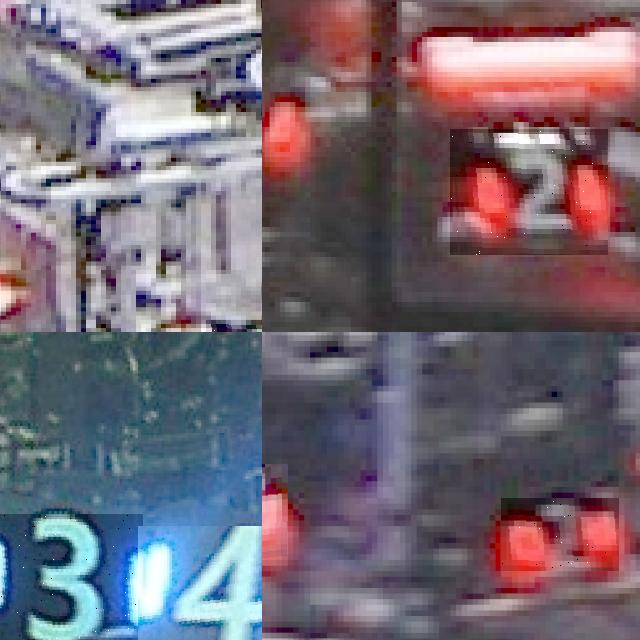B3: (0, 514, 143, 640)
B4: (138, 526, 262, 640)
R2: (450, 129, 608, 255), (501, 498, 619, 571), (262, 464, 287, 565)
